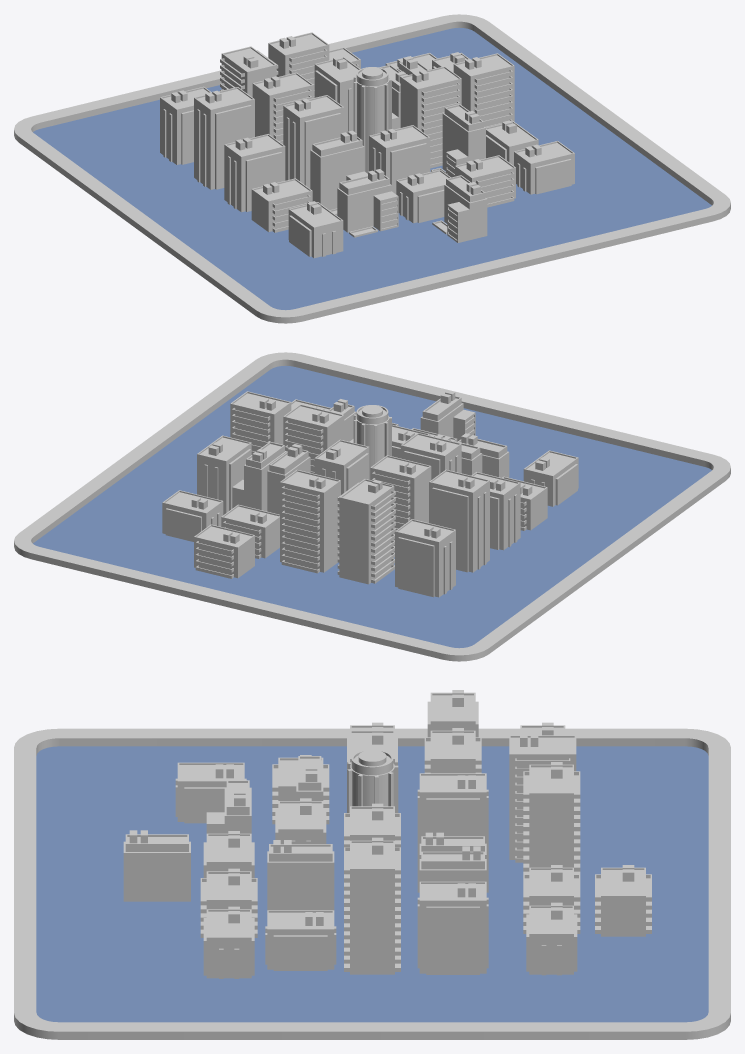
File: Perspective Buildings.fbx
3 views of the same model, one above another, from view 1: azimuth 30°, elevation 25°; view 2: azimuth 150°, elevation 25°; view 3: azimuth 270°, elevation 25° (orthographic). The views are drawn at different scales.
Visible parts, largest first — view 1: Ground, Border, Building_17, Building_4, Building_19, Building_6, Building_7, Building_5, Building_8, Building_2, Building_28, Building_21 (+13 smaller); view 2: Ground, Border, Building_17, Building_18, Building_11, Building_25, Building_16, Building_24, Building_10, Building_19, Building_26, Building_21 (+12 smaller); view 3: Ground, Border, Building_16, Building_15, Building_9, Building_25, Building_22, Building_12, Building_23, Building_28, Building_24, Building_21 (+16 smaller).
Part boxes in pixels (x1=…): Ground: x1=33, y1=27, x2=711, y2=310; Border: x1=14, y1=14, x2=730, y2=323; Building_17: x1=194, y1=87, x2=254, y2=189; Building_4: x1=283, y1=95, x2=344, y2=188; Building_19: x1=224, y1=134, x2=285, y2=212; Building_6: x1=337, y1=175, x2=398, y2=232; Building_7: x1=310, y1=136, x2=367, y2=210; Building_5: x1=369, y1=125, x2=430, y2=193; Building_8: x1=353, y1=67, x2=391, y2=173; Building_2: x1=400, y1=66, x2=461, y2=164; Building_28: x1=514, y1=141, x2=574, y2=194; Building_21: x1=288, y1=202, x2=343, y2=258; Ground: x1=33, y1=365, x2=711, y2=648; Border: x1=14, y1=352, x2=730, y2=661; Building_17: x1=429, y1=469, x2=489, y2=572; Building_18: x1=395, y1=519, x2=455, y2=597; Building_11: x1=339, y1=479, x2=394, y2=584; Building_25: x1=280, y1=469, x2=340, y2=572; Building_16: x1=197, y1=435, x2=251, y2=514; Building_24: x1=162, y1=490, x2=223, y2=541; Building_10: x1=370, y1=455, x2=431, y2=552; Building_19: x1=471, y1=472, x2=520, y2=550; Building_26: x1=194, y1=524, x2=254, y2=578; Building_21: x1=523, y1=450, x2=578, y2=506; Ground: x1=36, y1=746, x2=708, y2=1022; Border: x1=14, y1=728, x2=730, y2=1039; Building_16: x1=417, y1=881, x2=488, y2=974; Building_15: x1=350, y1=840, x2=394, y2=974; Building_9: x1=417, y1=773, x2=488, y2=892; Building_25: x1=529, y1=764, x2=573, y2=867; Building_22: x1=123, y1=834, x2=190, y2=901; Building_12: x1=267, y1=844, x2=334, y2=910; Building_23: x1=265, y1=910, x2=336, y2=970; Building_28: x1=203, y1=909, x2=254, y2=978; Building_24: x1=526, y1=905, x2=577, y2=975; Building_21: x1=175, y1=762, x2=246, y2=823.
Bounding box in the file's own units: 800 × 163 × 800.
